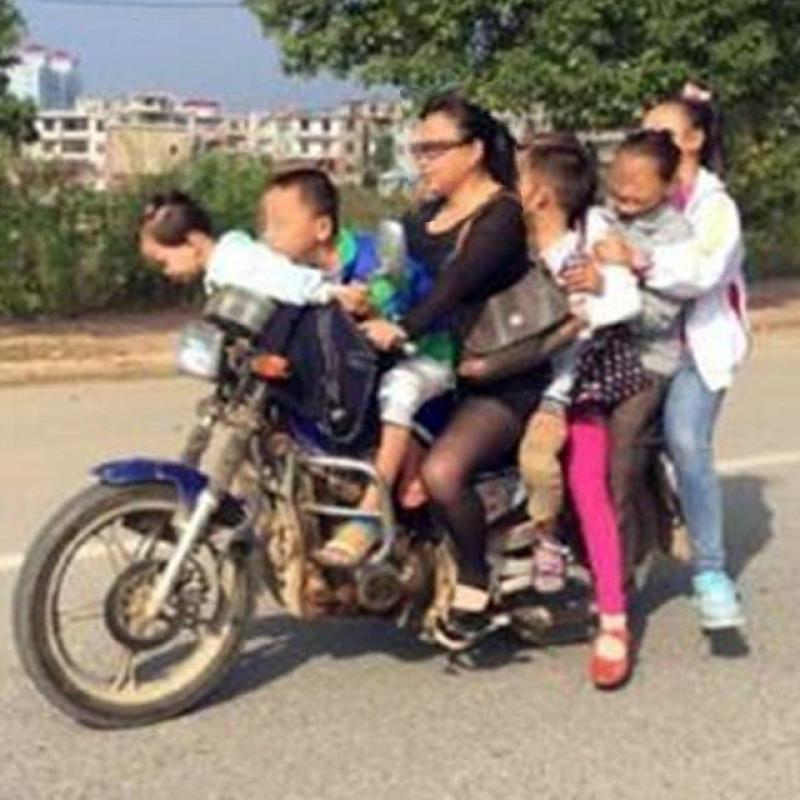nohelmet: (404, 82, 520, 222)
